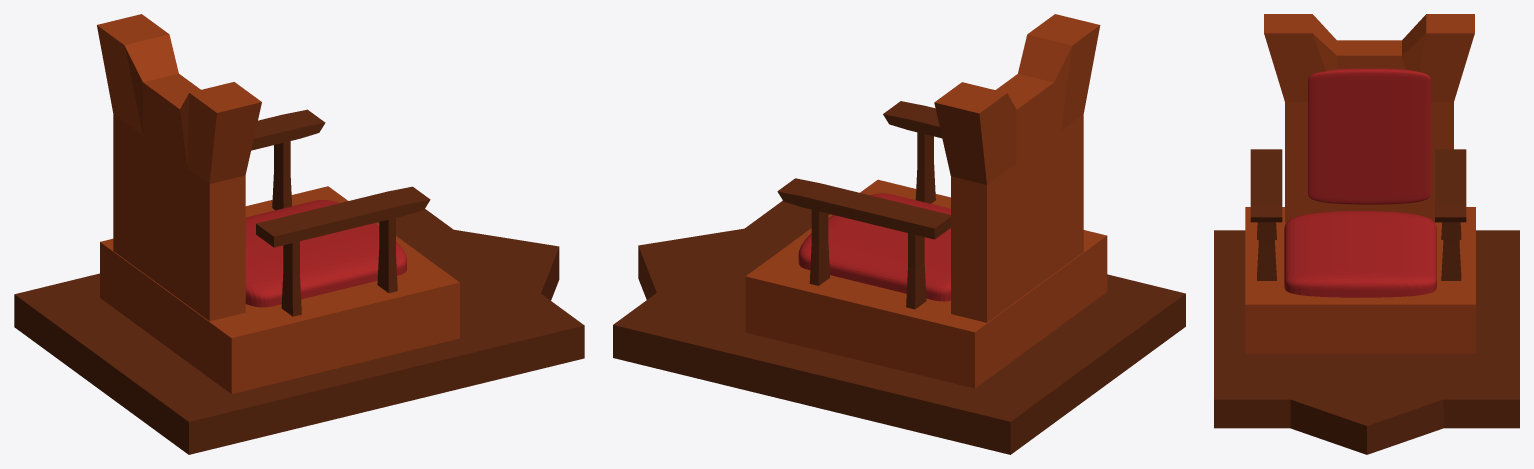
Rendered from трон.fbx.
The picture shows the model from 3 angles, left to right: view 1: azimuth 30°, elevation 25°; view 2: azimuth 150°, elevation 25°; view 3: azimuth 270°, elevation 25°; orthographic projection. The views are drawn at different scales.
Visible parts, largest first — view 1: throne; view 2: throne; view 3: throne.
Part boxes in pixels (x1=…): throne: x1=14, y1=14, x2=584, y2=454; throne: x1=613, y1=14, x2=1185, y2=454; throne: x1=1214, y1=14, x2=1519, y2=454.
Size of the model in its own units: 871 by 559 by 575.
